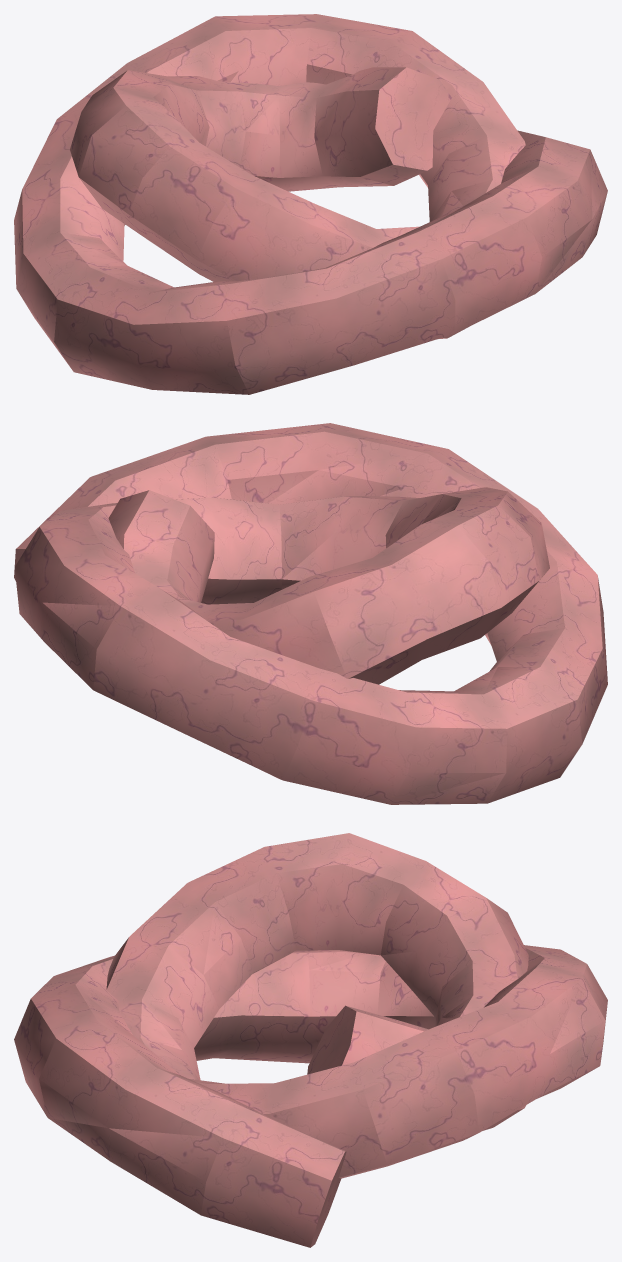
Rendered from gut_coil.glb.
The picture shows the model from 3 angles, top to bottom: view 1: azimuth 30°, elevation 25°; view 2: azimuth 150°, elevation 25°; view 3: azimuth 270°, elevation 25°; orthographic projection. The views are drawn at different scales.
Parts seen in each view (by area): view 1: OUT; view 2: OUT; view 3: OUT.
Part boxes in pixels (left/top/right/bottom): OUT: left=14, top=14, right=607, bottom=394; OUT: left=14, top=423, right=607, bottom=804; OUT: left=14, top=833, right=607, bottom=1247.
Bounding box in the file's own units: 0.2515 × 0.1098 × 0.2388.
Materials: 1 (1 with a texture image).
